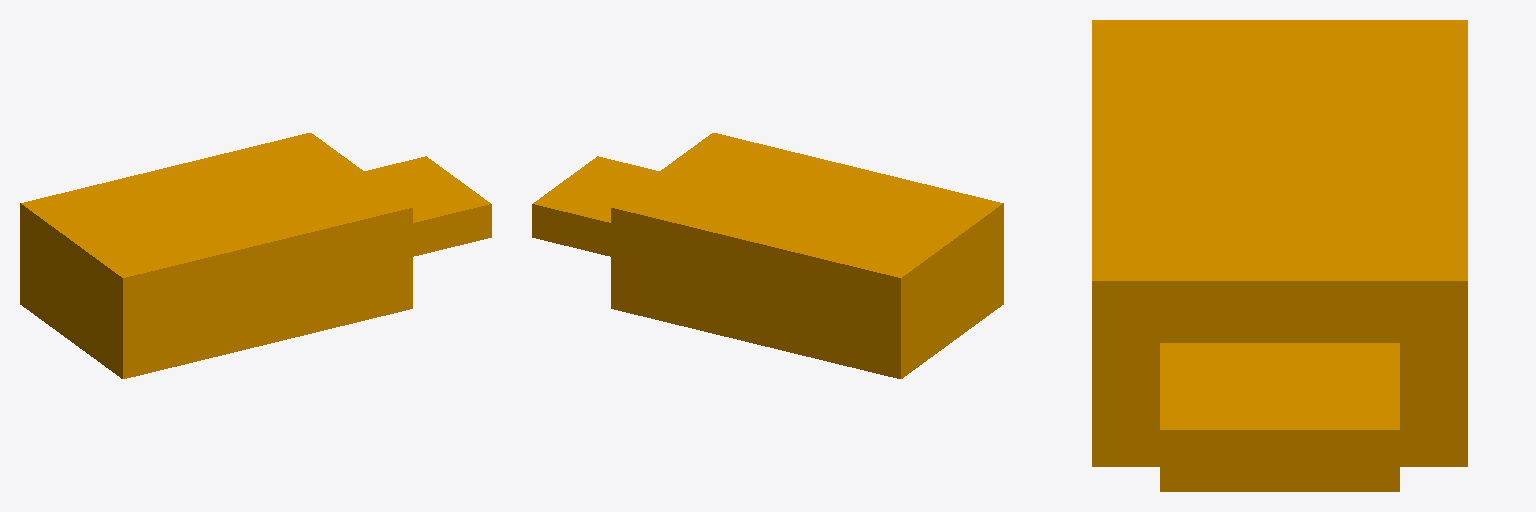
URDF robot description (micro_usb):
<?xml version="1.0"?>
<robot name="micro_usb">
  <link name="micro_usb">
    <visual><geometry><mesh filename="micro_usb_visual.obj"/></geometry></visual>
    <collision><geometry><mesh filename="micro_usb_hull.obj"/></geometry></collision>
  </link>
</robot>

--- What the picture shows (computed from the rendered views, not written in the file) ---
The picture shows the robot from 3 angles, left to right: view 1: azimuth 30°, elevation 25°; view 2: azimuth 150°, elevation 25°; view 3: azimuth 270°, elevation 25°; orthographic projection.
Model micro_usb with 1 links and 0 joints (none), rooted at micro_usb, posed all joints at 0.
Visible links, largest first — view 1: micro_usb; view 2: micro_usb; view 3: micro_usb.
Boxes of the visible links, left/top/right/bottom form: micro_usb: left=20, top=133, right=491, bottom=378; micro_usb: left=532, top=133, right=1003, bottom=378; micro_usb: left=1092, top=20, right=1467, bottom=491.
Size in the robot's own frame: 0.024 by 0.011 by 0.006 metres.
Meshes: 1 distinct files referenced, 1 mesh visuals loaded (1 OBJ).
